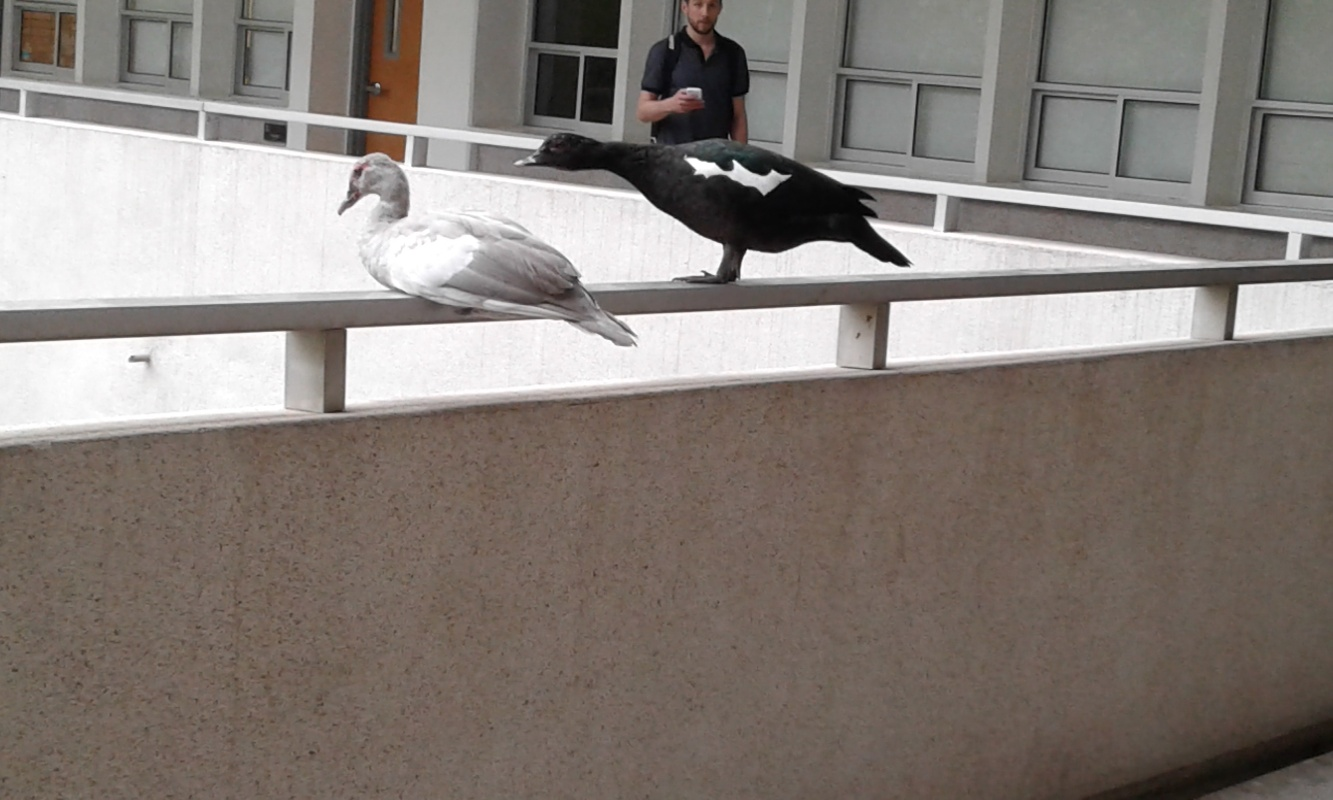pato: (524, 126, 893, 274), (346, 155, 606, 335)
